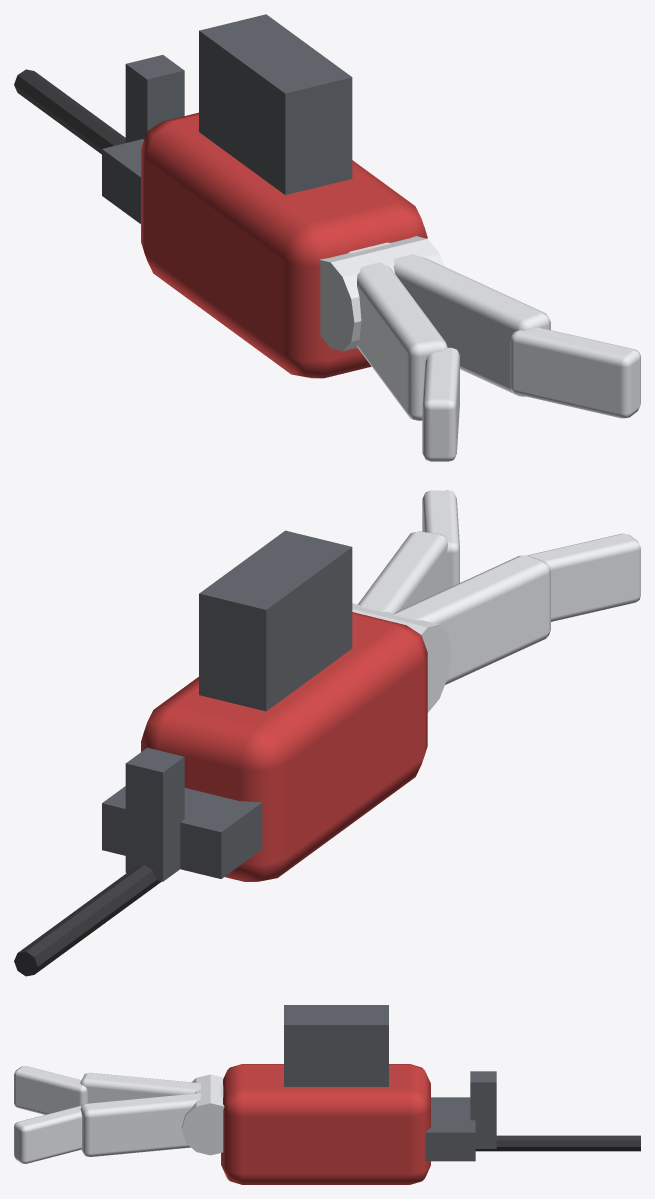
Rendered from fire-and-emergency-services-hydraulic-cutting-tool-eef16a24__29919.glb.
The picture shows the model from 3 angles, top to bottom: view 1: azimuth 30°, elevation 25°; view 2: azimuth 150°, elevation 25°; view 3: azimuth 270°, elevation 25°; orthographic projection. The views are drawn at different scales.
Parts seen in each view (by area): view 1: hydraulic-cutting-tool; view 2: hydraulic-cutting-tool; view 3: hydraulic-cutting-tool.
Boxes of the visible parts, x1=… form: hydraulic-cutting-tool: x1=14, y1=14, x2=640, y2=461; hydraulic-cutting-tool: x1=14, y1=490, x2=640, y2=976; hydraulic-cutting-tool: x1=14, y1=1005, x2=640, y2=1184.
Size of the model in its own units: 0.2897 by 0.33 by 1.19.
